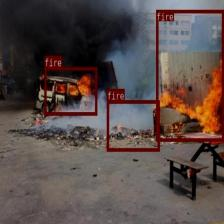fire: (156, 9, 224, 141), (107, 100, 159, 151), (44, 67, 97, 115)
